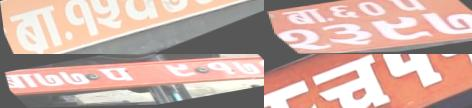0: (352, 1, 388, 17)
1: (371, 54, 452, 105), (54, 0, 102, 47), (427, 54, 472, 89), (202, 61, 238, 79), (254, 60, 264, 77)
2: (271, 26, 332, 53)
3: (312, 21, 377, 48)
5: (81, 0, 129, 38)
6: (322, 3, 361, 21)
7: (415, 8, 472, 38), (147, 0, 194, 21), (53, 67, 94, 87), (27, 69, 64, 88), (228, 60, 264, 79)
8: (264, 72, 329, 108), (175, 0, 222, 13)
9: (362, 14, 434, 42), (159, 62, 201, 81)
ba: (0, 0, 68, 54), (277, 6, 336, 28), (4, 69, 43, 93)
cha: (303, 54, 400, 108), (109, 0, 167, 31)
pa: (87, 63, 141, 87), (384, 0, 431, 14)
